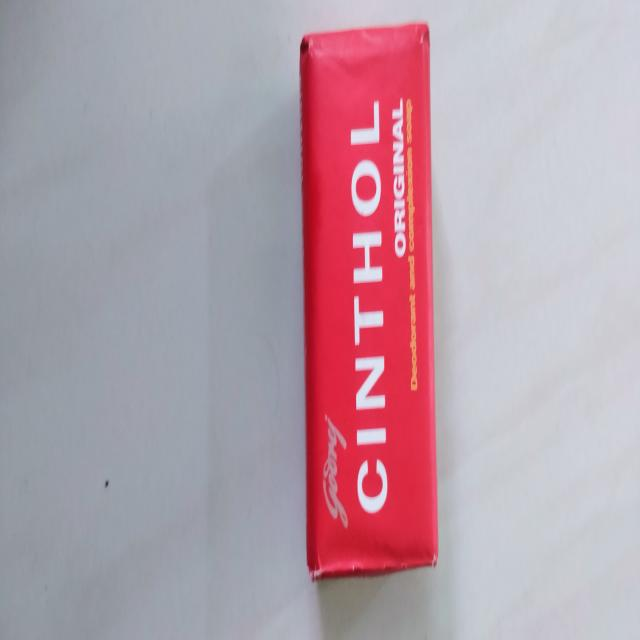soap: (292, 19, 438, 584)
